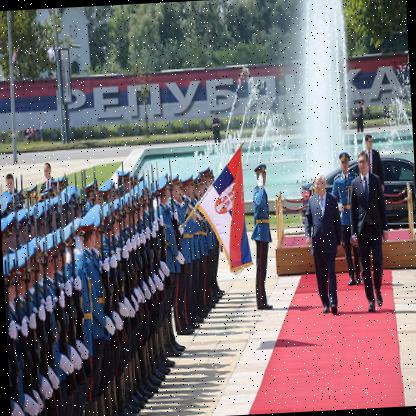rs: (194, 148, 255, 277)
